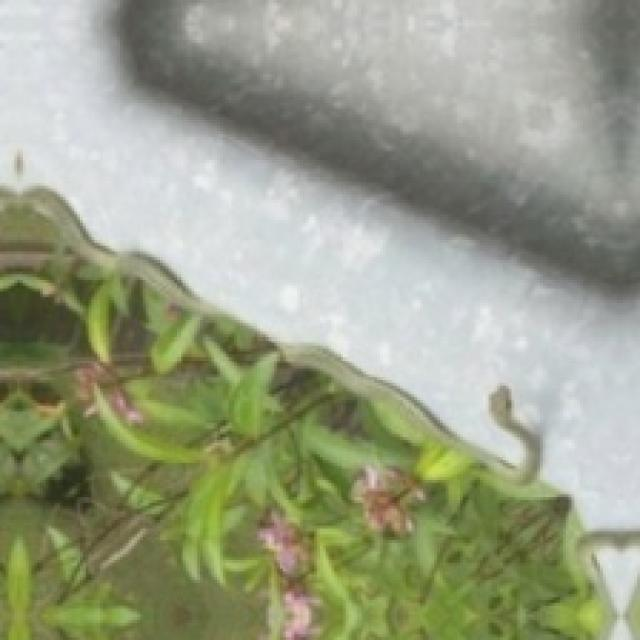paradise tree snake: (0, 0, 637, 526), (0, 189, 489, 491), (120, 0, 637, 280)
